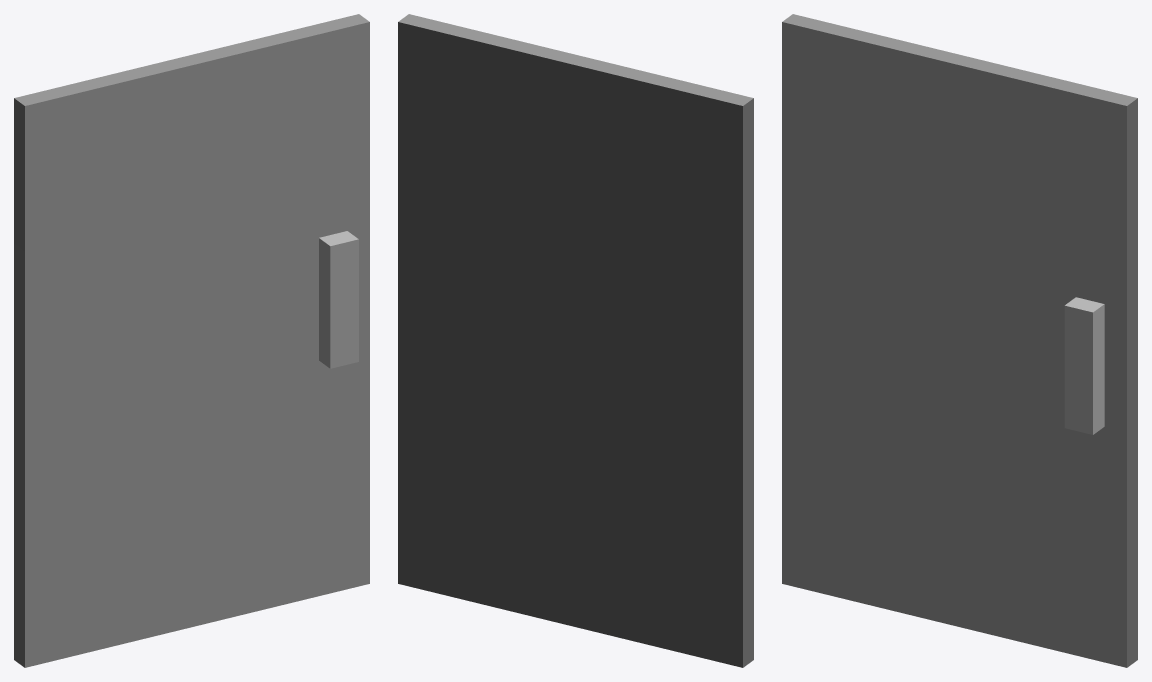
File: Door2.FBX
3 renders of one model, left to right at view 1: azimuth 30°, elevation 25°; view 2: azimuth 150°, elevation 25°; view 3: azimuth 330°, elevation 25°, orthographic.
Visible parts, largest first — view 1: SM_ToiletDoor_01; view 2: SM_ToiletDoor_01; view 3: SM_ToiletDoor_01.
Boxes of the visible parts, <box> form: SM_ToiletDoor_01: <box>14,14,369,667</box>; SM_ToiletDoor_01: <box>398,14,753,667</box>; SM_ToiletDoor_01: <box>782,14,1137,667</box>.
Bounding box in the file's own units: 78.38 × 122 × 8.8.
